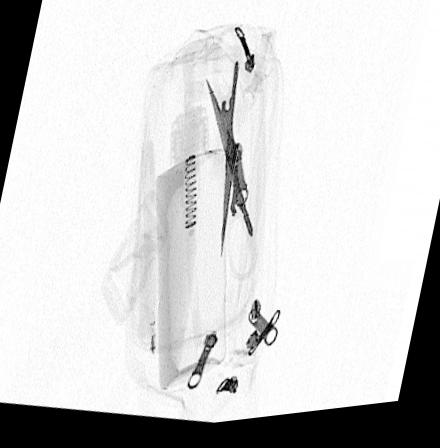Scissors: (203, 31, 257, 288)
